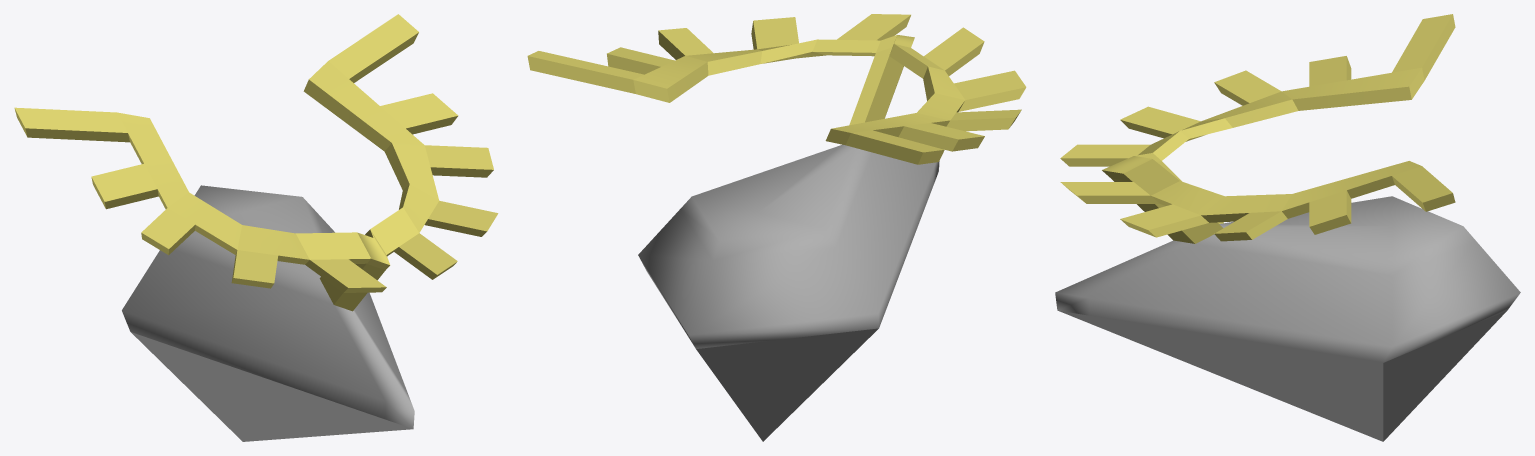
Rendered from SentinelHead.fbx.
3 views of the same model, side by side, from view 1: azimuth 30°, elevation 25°; view 2: azimuth 150°, elevation 25°; view 3: azimuth 270°, elevation 25° (orthographic). The views are drawn at different scales.
Visible parts, largest first — view 1: SentinelHead; view 2: SentinelHead; view 3: SentinelHead.
Part boxes in pixels (<box>): SentinelHead: <box>14,14,498,441</box>; SentinelHead: <box>527,14,1026,441</box>; SentinelHead: <box>1055,14,1520,441</box>.
Bounding box in the file's own units: 0.5869 × 0.5045 × 0.6291.
